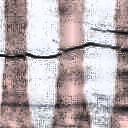crackTip: (1, 16, 128, 64)
